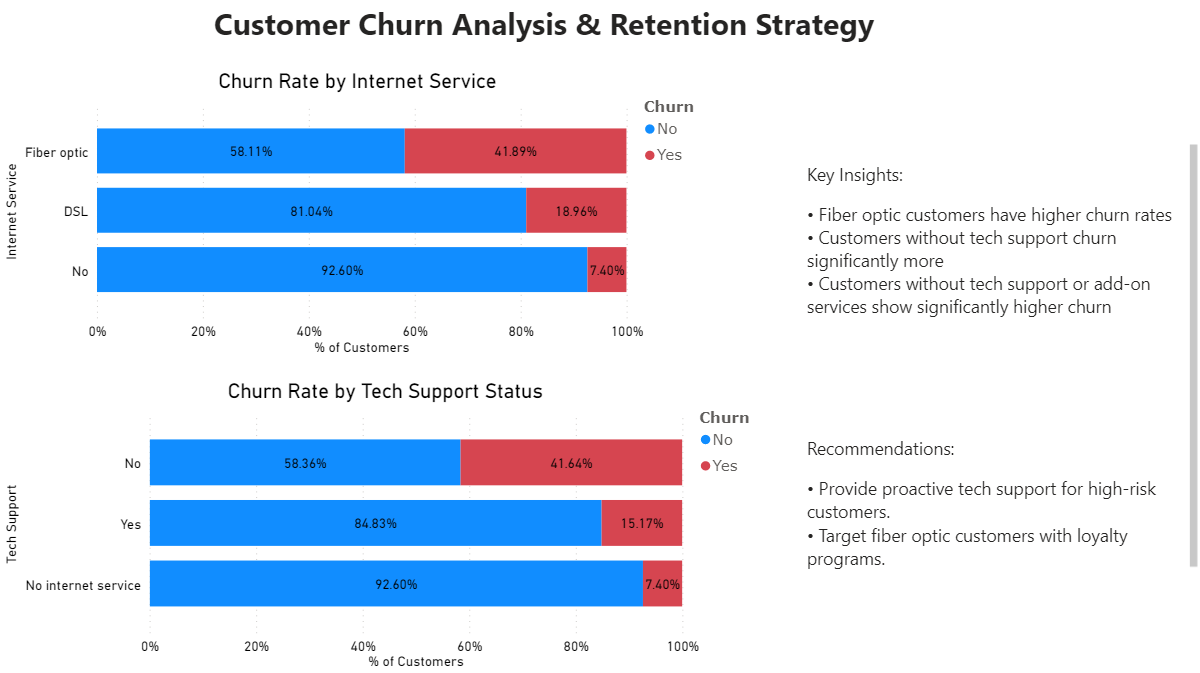

The dashboard page shown, as its layout file describes it:
{"tool":"powerbi","page":{"name":"Service Drivers","canvas":[1280,720],"ordinal":2},"visuals":[{"type":"textbox","box":[854.1,151.7,426.3,486.9],"z":0},{"type":"textbox","box":[111.9,0,936.8,58.8],"z":1000},{"type":"hundredPercentStackedBarChart","title":"Churn Rate by Internet Service","fields":{"Category":["Telco.InternetService"],"Y":["CountNonNull(Telco.InternetService)"],"Series":["Telco.Churn"]},"box":[0,76.6,763.1,308.1],"z":2000},{"type":"hundredPercentStackedBarChart","title":"Churn Rate by Tech Support Status","fields":{"Category":["Telco.TechSupport"],"Y":["CountNonNull(Telco.TechSupport)"],"Series":["Telco.Churn"]},"box":[0,407.1,822.2,312.9],"z":3000}]}

Visuals, with their boxes in screenshot pixels (x1, y1, x2, y2), scaled from the page's 1280x720 canvas onto the 1200x673 screenshot:
textbox: <bbox>801, 142, 1199, 597</bbox>
textbox: <bbox>105, 0, 983, 55</bbox>
"Churn Rate by Internet Service" hundredPercentStackedBarChart: <bbox>0, 72, 715, 360</bbox>
"Churn Rate by Tech Support Status" hundredPercentStackedBarChart: <bbox>0, 381, 771, 672</bbox>
